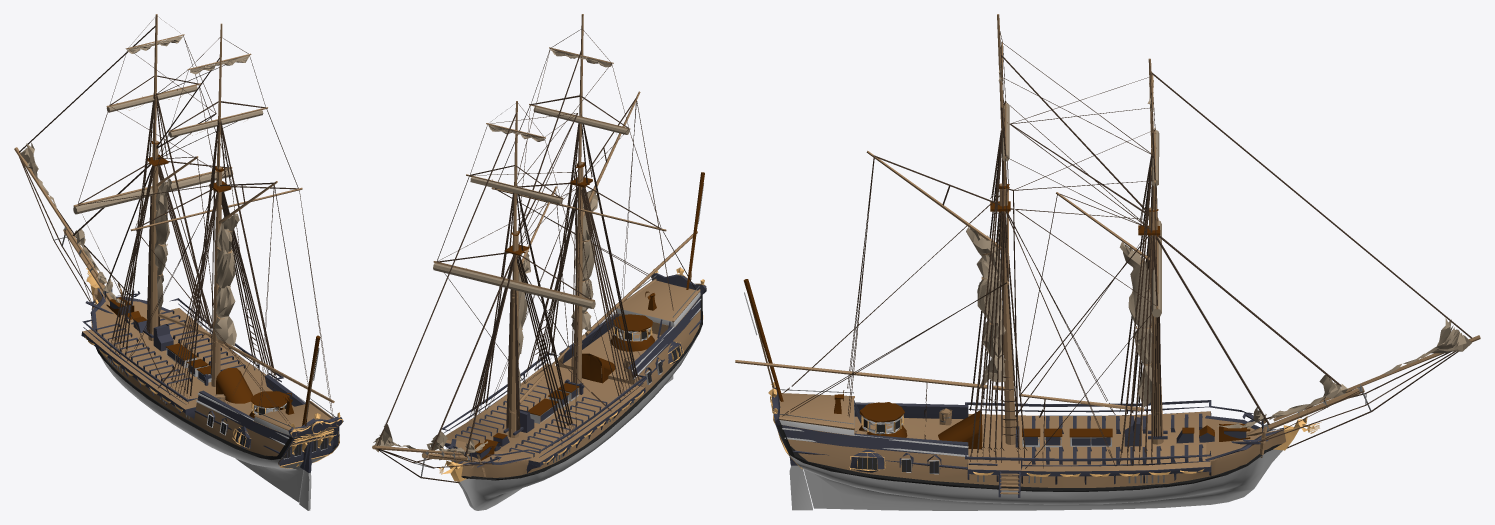
File: amphion.glb
The picture shows the model from 3 angles, left to right: view 1: azimuth 30°, elevation 25°; view 2: azimuth 150°, elevation 25°; view 3: azimuth 270°, elevation 25°; orthographic projection. The views are drawn at different scales.
Visible parts, largest first — view 1: amphion; view 2: amphion; view 3: amphion.
Boxes of the visible parts, x1=… form: amphion: x1=14, y1=14, x2=343, y2=510; amphion: x1=372, y1=14, x2=706, y2=510; amphion: x1=735, y1=14, x2=1480, y2=510.
Bounding box in the file's own units: 13.51 × 31.94 × 43.55.
